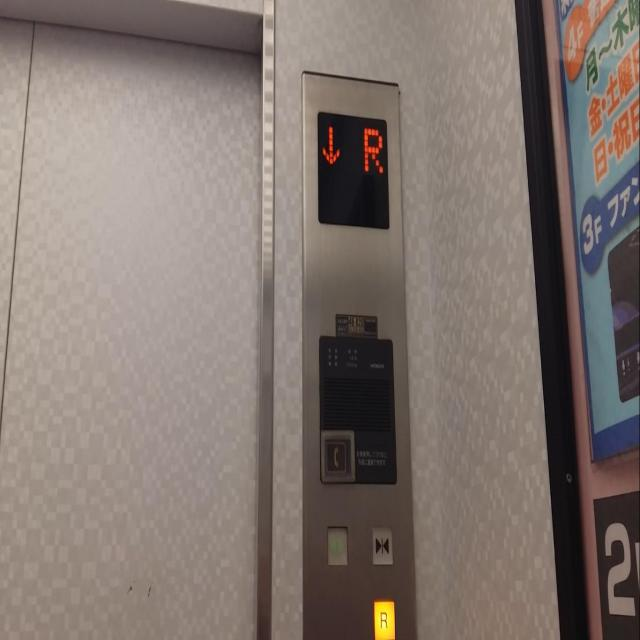R: (372, 598, 395, 638)
call: (322, 434, 348, 478)
close: (370, 524, 394, 568)
led: (317, 108, 391, 234)
open: (325, 523, 349, 570)
